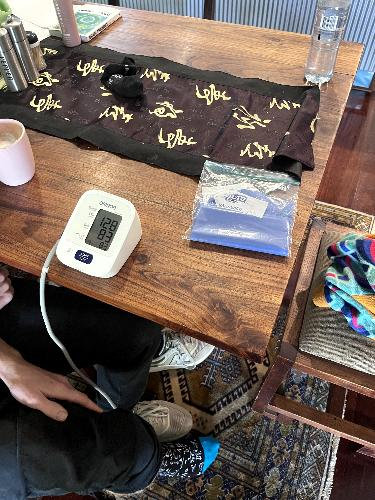bpm: (83, 205, 125, 254)
